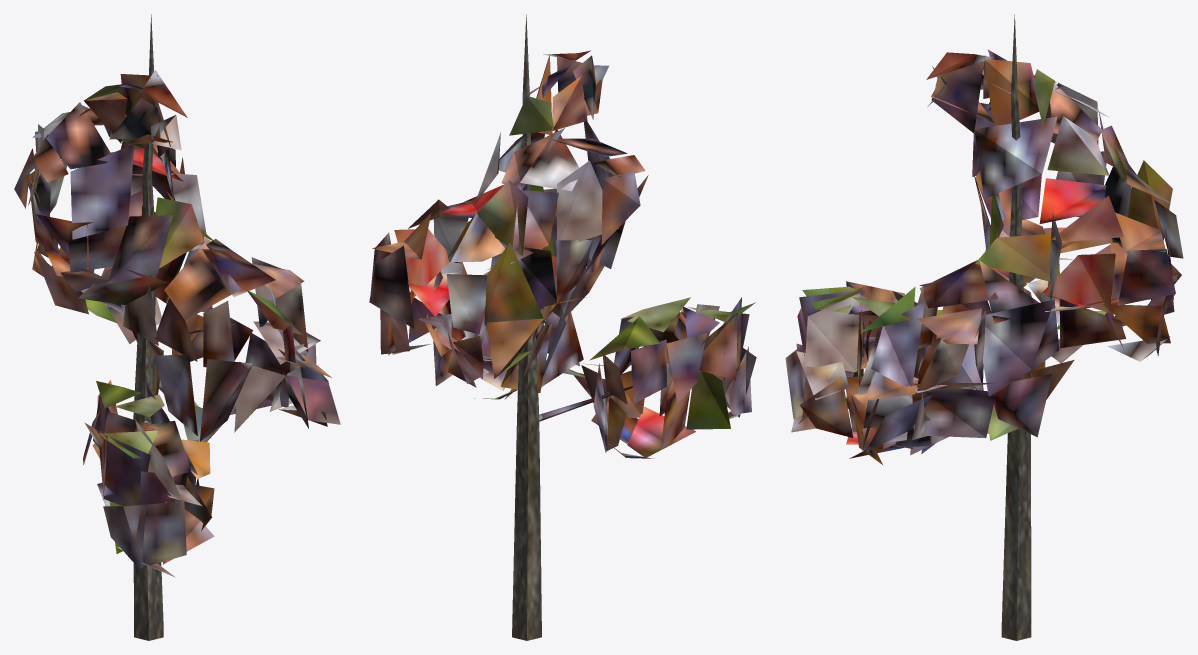
Rendered from Tree06.fbx.
The picture shows the model from 3 angles, left to right: view 1: azimuth 30°, elevation 25°; view 2: azimuth 150°, elevation 25°; view 3: azimuth 270°, elevation 25°; orthographic projection.
Parts seen in each view (by area): view 1: Tree06; view 2: Tree06; view 3: Tree06.
Part boxes in pixels (x1=…): Tree06: x1=14, y1=14, x2=340, y2=640; Tree06: x1=369, y1=14, x2=756, y2=640; Tree06: x1=785, y1=14, x2=1183, y2=640.
Bounding box in the file's own units: 479 × 1124 × 653.
